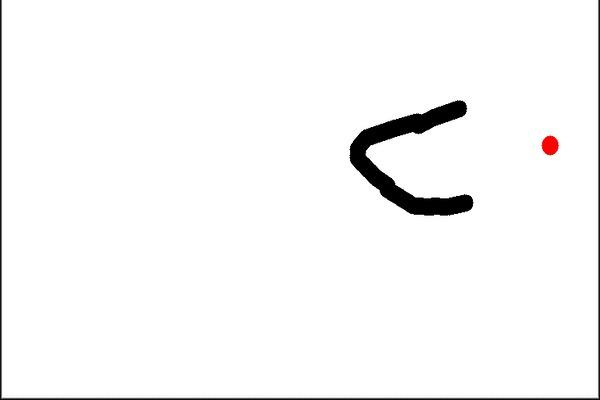C: (346, 92, 476, 219)
